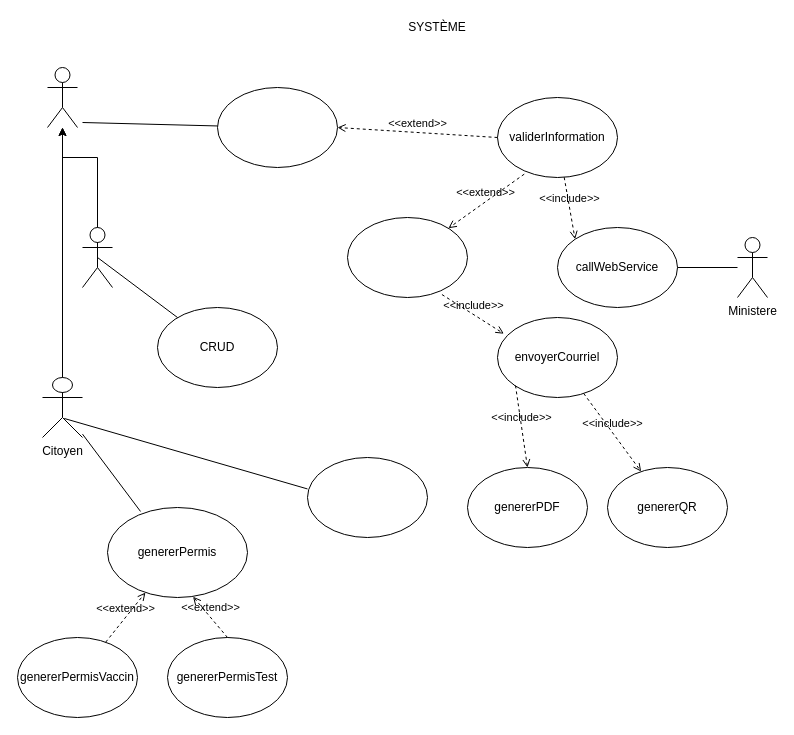
The diagram is 794 pixels wide and 735 high, and some of its shapes have lost their labels. The box of each missing label's shape, as (x1, y1, x2, y2) in pixels:
Admin: (82, 226, 112, 288)
renouvellerPermis: (306, 456, 428, 538)
S'inscrire: (346, 216, 468, 298)
seConnecter: (216, 86, 338, 168)
User: (46, 66, 78, 128)
